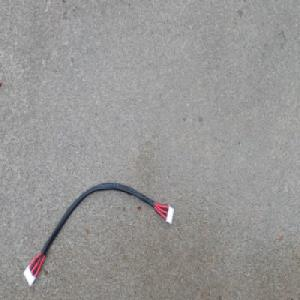Wire: (22, 181, 175, 288)
